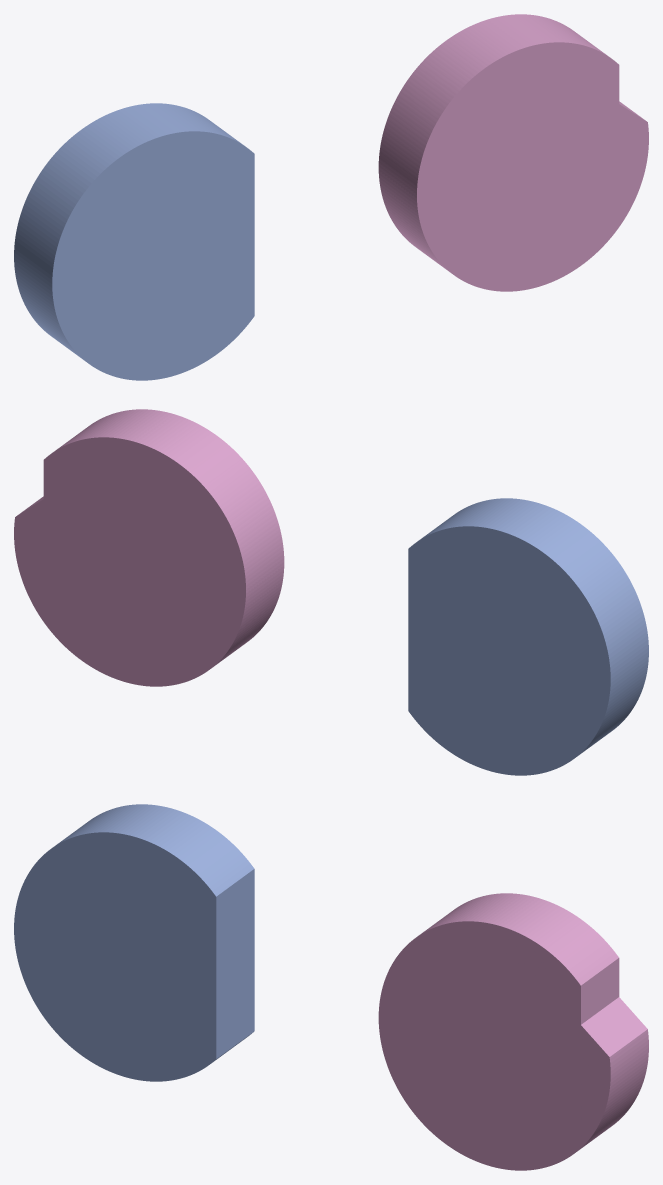
The model's file is swept_keyed_bore_demo.glb.
The picture shows the model from 3 angles, top to bottom: view 1: azimuth 30°, elevation 25°; view 2: azimuth 150°, elevation 25°; view 3: azimuth 330°, elevation 25°; orthographic projection.
Visible parts, largest first — view 1: swept_envelope, input_keyed_bore; view 2: swept_envelope, input_keyed_bore; view 3: swept_envelope, input_keyed_bore.
Boxes of the visible parts, left/top/right/bottom form: swept_envelope: left=378, top=14, right=648, bottom=291; input_keyed_bore: left=14, top=103, right=254, bottom=380; swept_envelope: left=14, top=409, right=284, bottom=686; input_keyed_bore: left=408, top=498, right=648, bottom=775; swept_envelope: left=378, top=893, right=648, bottom=1170; input_keyed_bore: left=14, top=804, right=254, bottom=1081.
Size of the model in its own units: 36 by 14 by 4.
